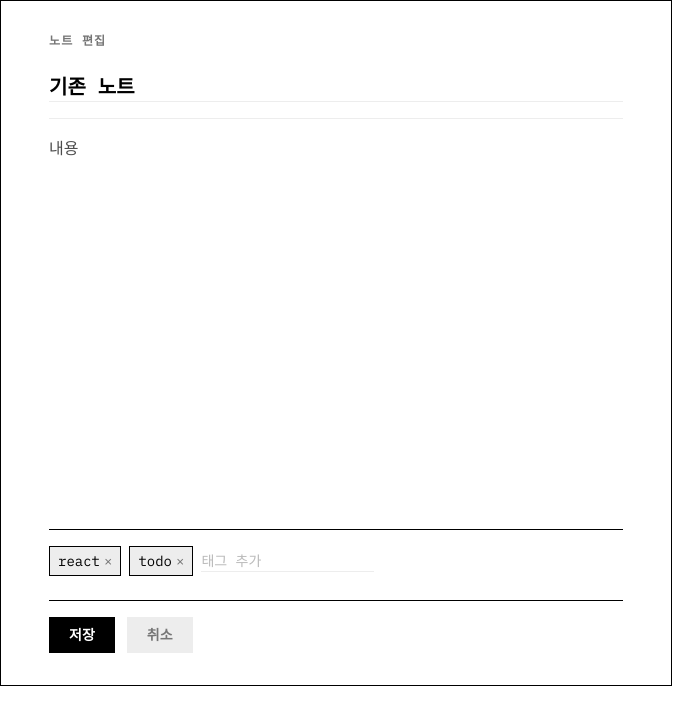
Test: NoteEditor › should remove only the clicked tag chip and keep the other tag chip visible when two tags exist
Expected: the field showing "기존 노트" is shown, [49,73,623,102]
Expected: the text "react" is shown, [58,552,100,570]
Click the button "×" next to "react" at {"x": 108, "y": 561}, box [104,551,112,571]
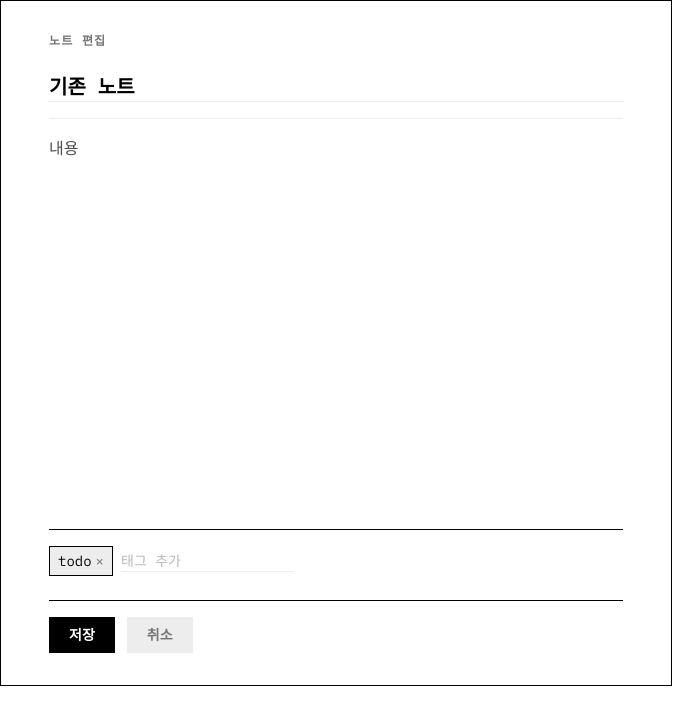
Expected: the text "todo" is shown, [58,552,92,570]
Expected: the text "react" is gone
